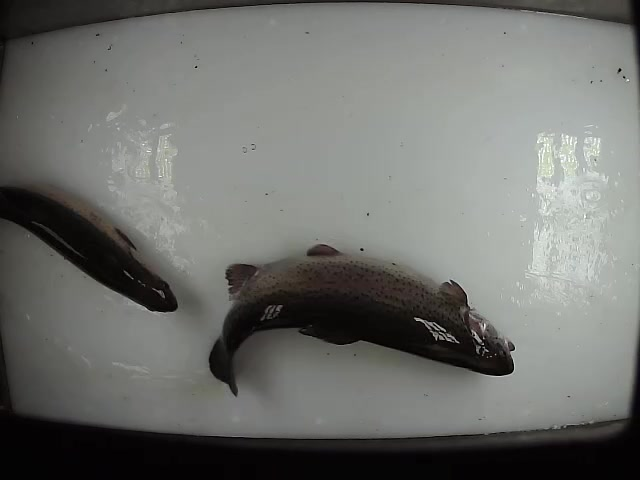fish: (206, 240, 519, 399), (1, 178, 180, 315)
